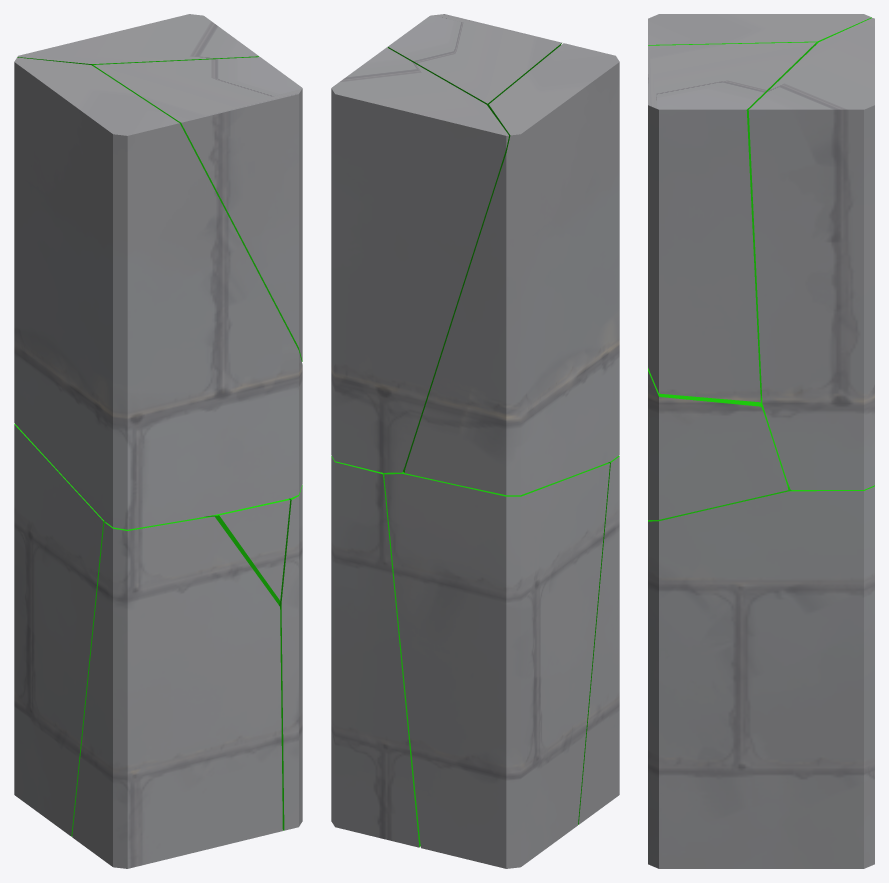
Rendered from SM_Column_Var2_Broken_00.fbx.
3 views of the same model, side by side, from view 1: azimuth 30°, elevation 25°; view 2: azimuth 150°, elevation 25°; view 3: azimuth 270°, elevation 25° (orthographic). The views are drawn at different scales.
Visible parts, largest first — view 1: SM_Column_Var2_Broken_01, SM_Column_Var2_Broken_04, SM_Column_Var2_Broken_03, SM_Column_Var2_Broken_05, SM_Column_Var2_Broken_00, SM_Column_Var2_Broken_02; view 2: SM_Column_Var2_Broken_03, SM_Column_Var2_Broken_01, SM_Column_Var2_Broken_02, SM_Column_Var2_Broken_00, SM_Column_Var2_Broken_04, SM_Column_Var2_Broken_05; view 3: SM_Column_Var2_Broken_00, SM_Column_Var2_Broken_02, SM_Column_Var2_Broken_05, SM_Column_Var2_Broken_01.
Part boxes in pixels (<box>): SM_Column_Var2_Broken_01: <box>14,57,302,529</box>; SM_Column_Var2_Broken_04: <box>72,516,282,868</box>; SM_Column_Var2_Broken_03: <box>14,423,290,836</box>; SM_Column_Var2_Broken_05: <box>93,57,302,361</box>; SM_Column_Var2_Broken_00: <box>279,485,302,830</box>; SM_Column_Var2_Broken_02: <box>17,14,259,66</box>; SM_Column_Var2_Broken_03: <box>384,462,609,868</box>; SM_Column_Var2_Broken_01: <box>403,43,619,495</box>; SM_Column_Var2_Broken_02: <box>331,47,508,472</box>; SM_Column_Var2_Broken_00: <box>331,456,420,847</box>; SM_Column_Var2_Broken_04: <box>578,456,619,824</box>; SM_Column_Var2_Broken_05: <box>387,14,561,105</box>; SM_Column_Var2_Broken_00: <box>648,485,874,868</box>; SM_Column_Var2_Broken_02: <box>748,18,874,489</box>; SM_Column_Var2_Broken_05: <box>648,42,816,402</box>; SM_Column_Var2_Broken_01: <box>648,14,871,519</box>.
Bounding box in the file's own units: 0.2707 × 1 × 0.2707.
